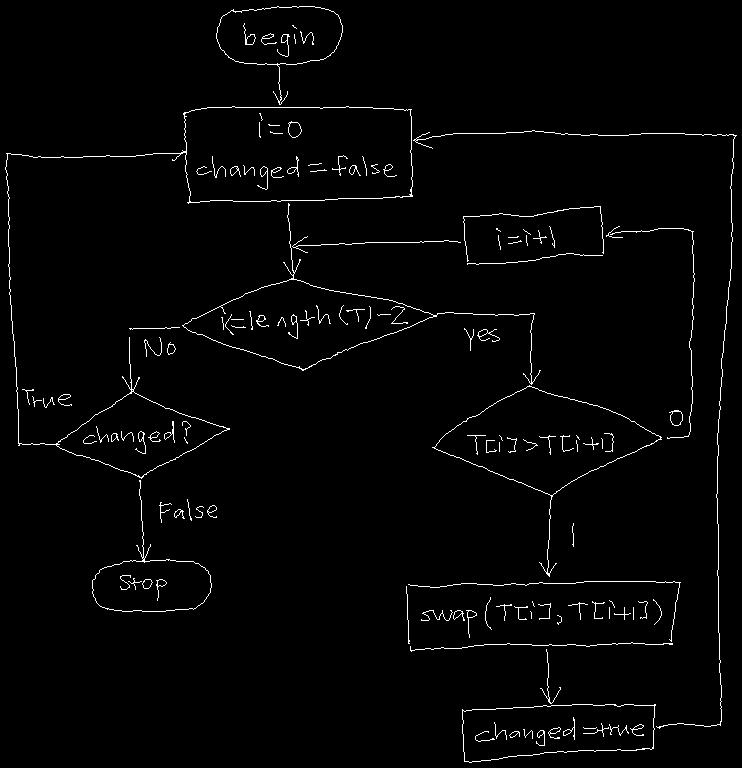arrow: (413, 130, 736, 728), (5, 150, 186, 445), (606, 226, 694, 438), (437, 312, 540, 384), (122, 327, 179, 391), (292, 236, 460, 252), (539, 495, 556, 576), (283, 203, 300, 277), (136, 480, 150, 560), (540, 649, 560, 703), (273, 63, 287, 104)
decision: (432, 385, 661, 496), (182, 278, 436, 370), (54, 391, 229, 478)
process: (183, 106, 412, 203), (406, 581, 680, 651), (462, 704, 655, 762), (463, 206, 603, 264)
terminator: (216, 6, 342, 64), (92, 559, 211, 611)
text: (196, 113, 396, 189), (421, 597, 661, 637), (221, 305, 407, 338), (475, 717, 643, 745), (83, 421, 190, 453), (467, 433, 613, 454), (243, 23, 313, 56), (496, 226, 554, 249), (159, 499, 216, 522), (120, 575, 166, 600), (22, 389, 71, 407), (464, 328, 499, 350), (144, 337, 175, 356), (669, 410, 682, 425), (571, 523, 574, 546)
